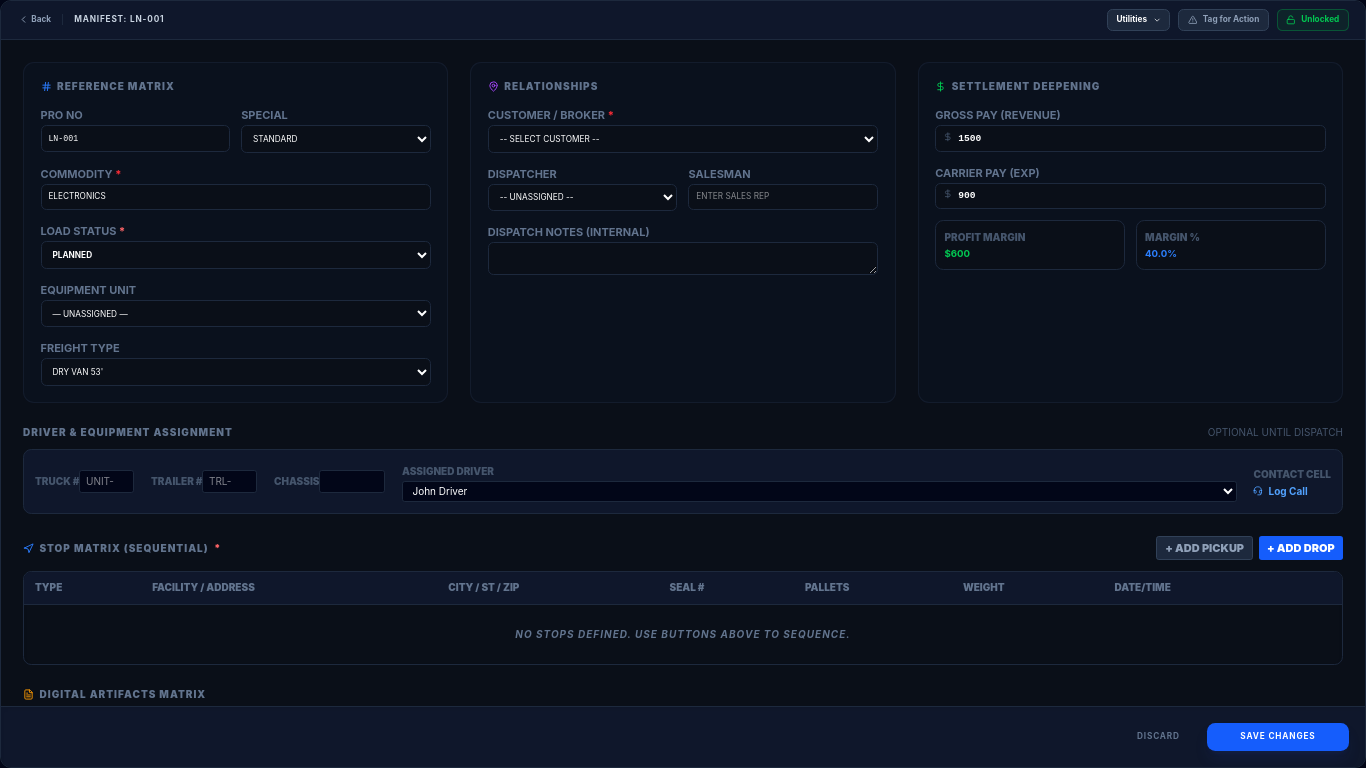
Scenario: EditLoadForm component › interactive elements › toggles action required state
The width and height of the screenshot is (1366, 768).
Click the button "Tag for Action": click(1223, 20) [1178, 9, 1269, 31]
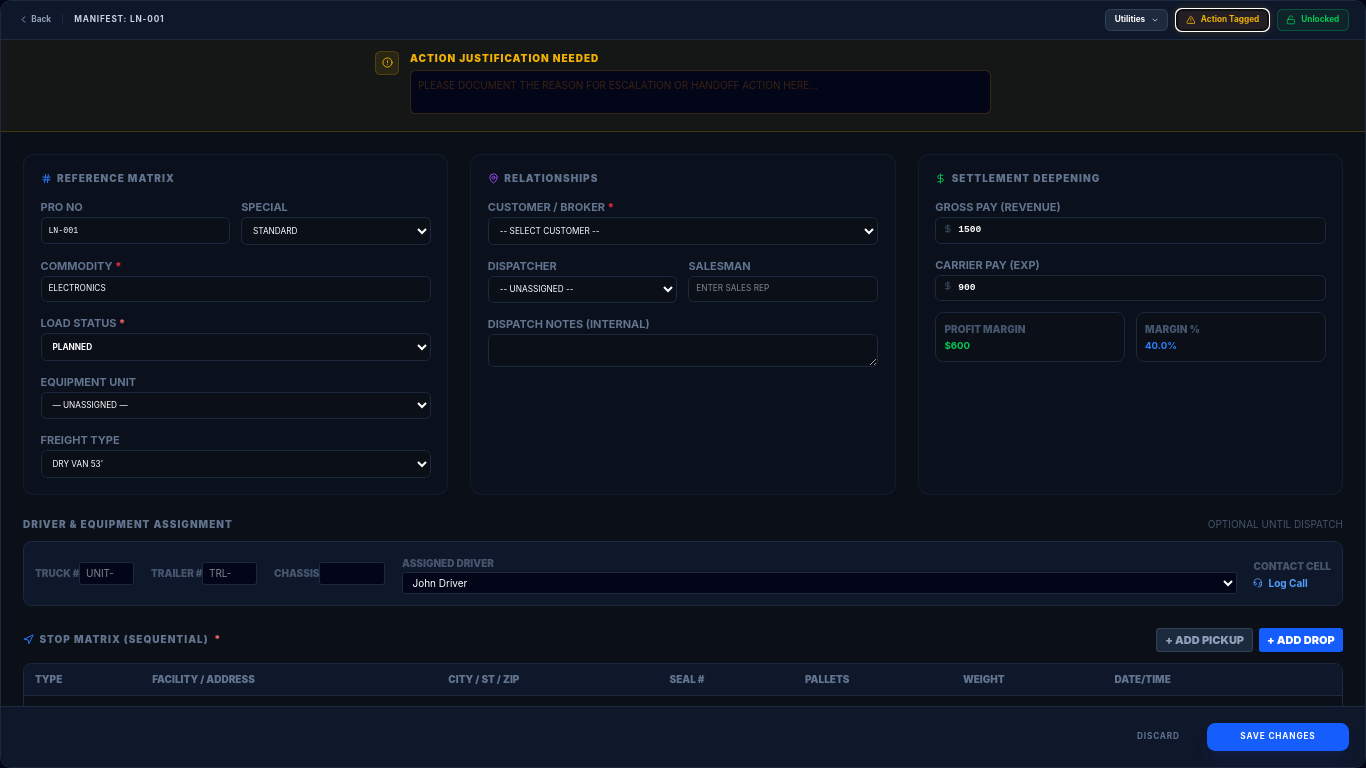
expect the button "Action Tagged" is shown: met, box [1176, 9, 1269, 31]
